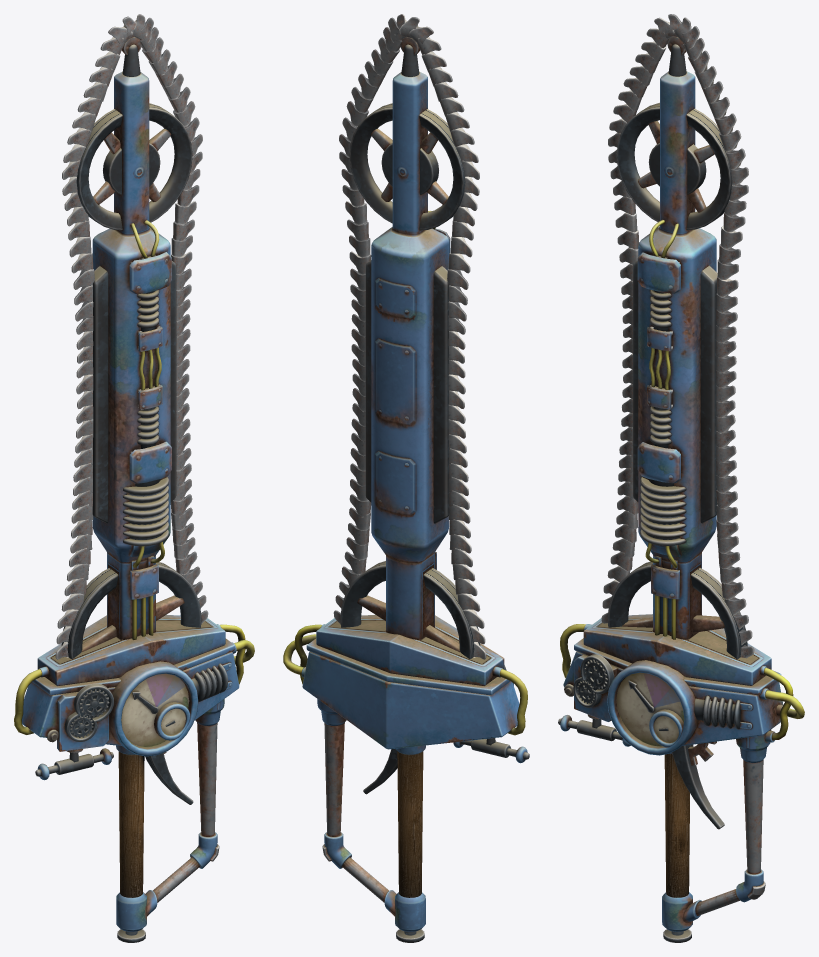
The model's file is sm_sword_55.gltf.
3 renders of one model, left to right at view 1: azimuth 30°, elevation 25°; view 2: azimuth 150°, elevation 25°; view 3: azimuth 330°, elevation 25°, orthographic.
Parts seen in each view (by area): view 1: sm_sword_55; view 2: sm_sword_55; view 3: sm_sword_55.
Boxes of the visible parts, box(x1,y1,x2,y2) form: sm_sword_55: box(14, 14, 254, 942); sm_sword_55: box(283, 14, 529, 942); sm_sword_55: box(558, 14, 804, 942).
Size of the model in its own units: 0.4083 by 1.5 by 0.1513.
Materials: 1 (1 with a texture image).
